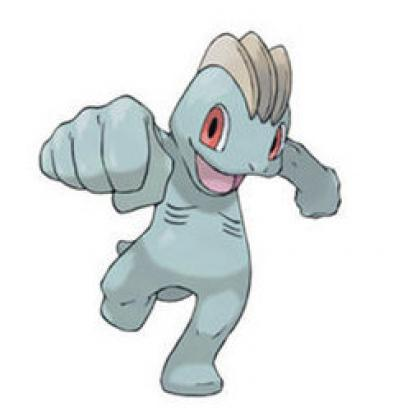Machop: (44, 14, 345, 402)
